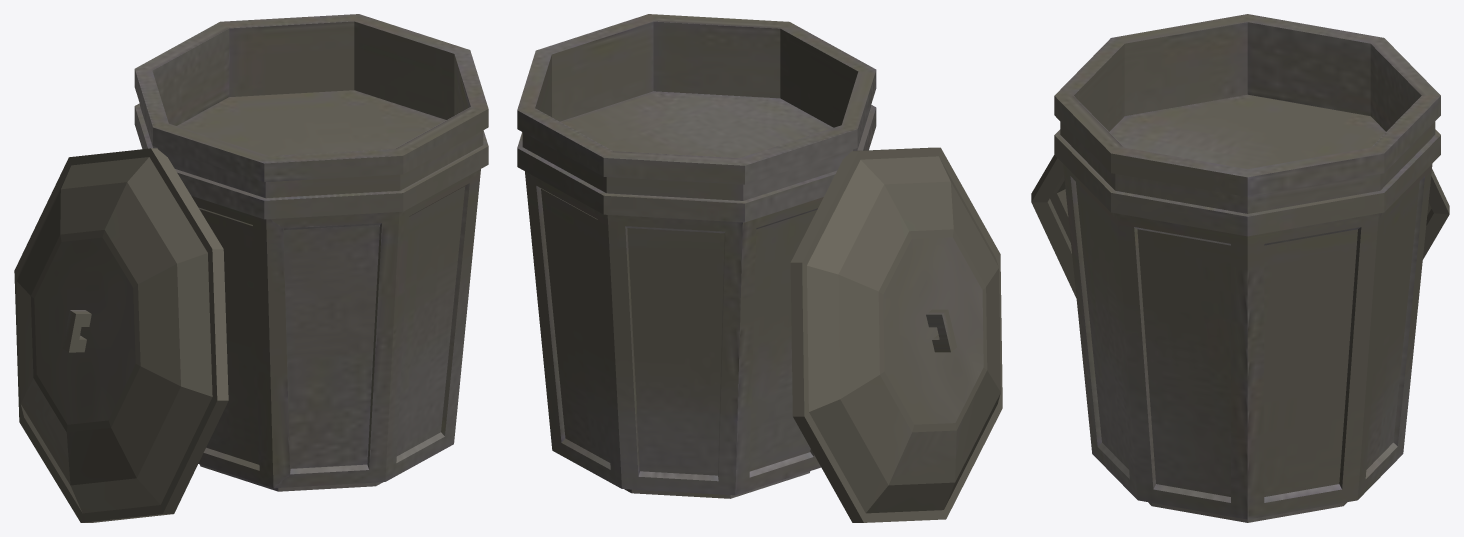
Rendered from trash3.fbx.
3 renders of one model, left to right at view 1: azimuth 30°, elevation 25°; view 2: azimuth 150°, elevation 25°; view 3: azimuth 270°, elevation 25°, orthographic. The views are drawn at different scales.
Parts seen in each view (by area): view 1: Cube.020, Cube.021; view 2: Cube.020, Cube.021; view 3: Cube.020, Cube.021.
Part boxes in pixels (x1,y1,x2,y2): Cube.020: (134, 14, 488, 491); Cube.021: (14, 148, 228, 522); Cube.020: (517, 14, 876, 498); Cube.021: (790, 147, 1002, 522); Cube.020: (1054, 14, 1440, 522); Cube.021: (1031, 155, 1449, 298).
Size of the model in its own units: 58.65 by 51.15 by 49.2.
Materials: 1 (1 with a texture image).
